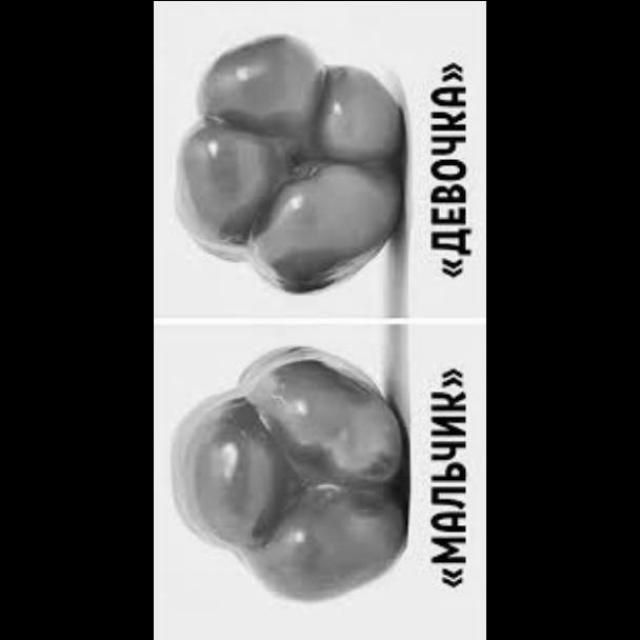ot chuong: (166, 31, 413, 291), (160, 352, 404, 612)
